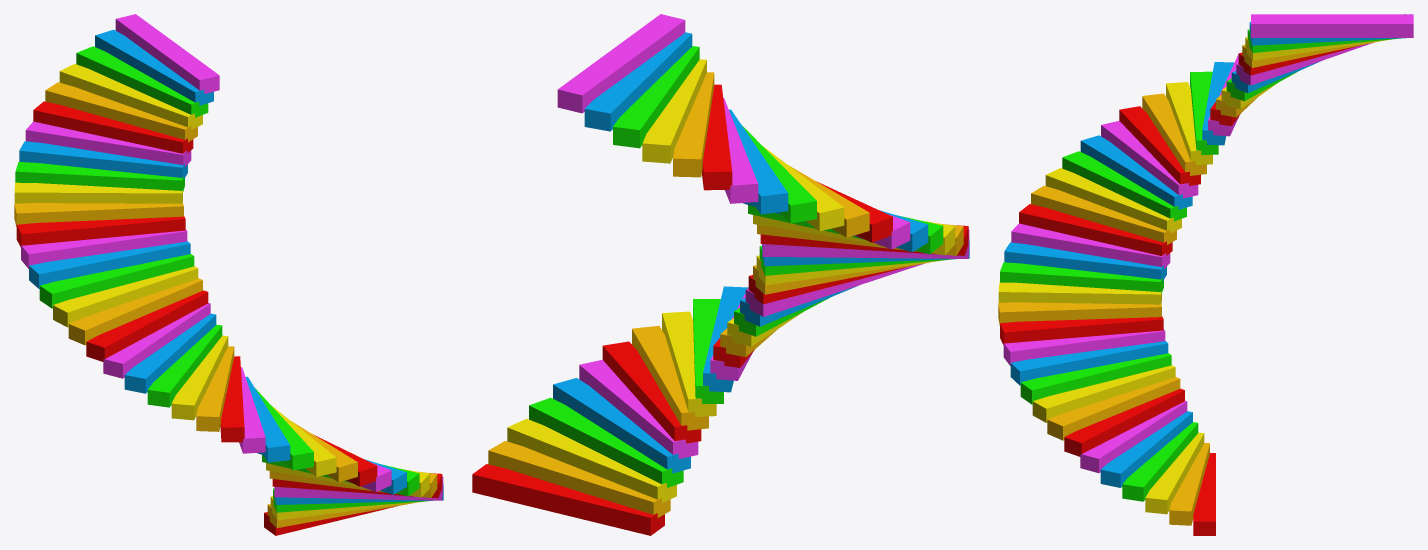
Rendered from lestnica2.fbx.
The picture shows the model from 3 angles, left to right: view 1: azimuth 30°, elevation 25°; view 2: azimuth 150°, elevation 25°; view 3: azimuth 270°, elevation 25°; orthographic projection. The views are drawn at different scales.
Parts seen in each view (by area): view 1: Cube.003; view 2: Cube.003; view 3: Cube.003.
Part boxes in pixels (x1,y1,x2,y2): Cube.003: (14, 14, 443, 535); Cube.003: (472, 14, 969, 535); Cube.003: (998, 14, 1413, 535).
Bounding box in the file's own units: 1709 × 1957 × 1710.
